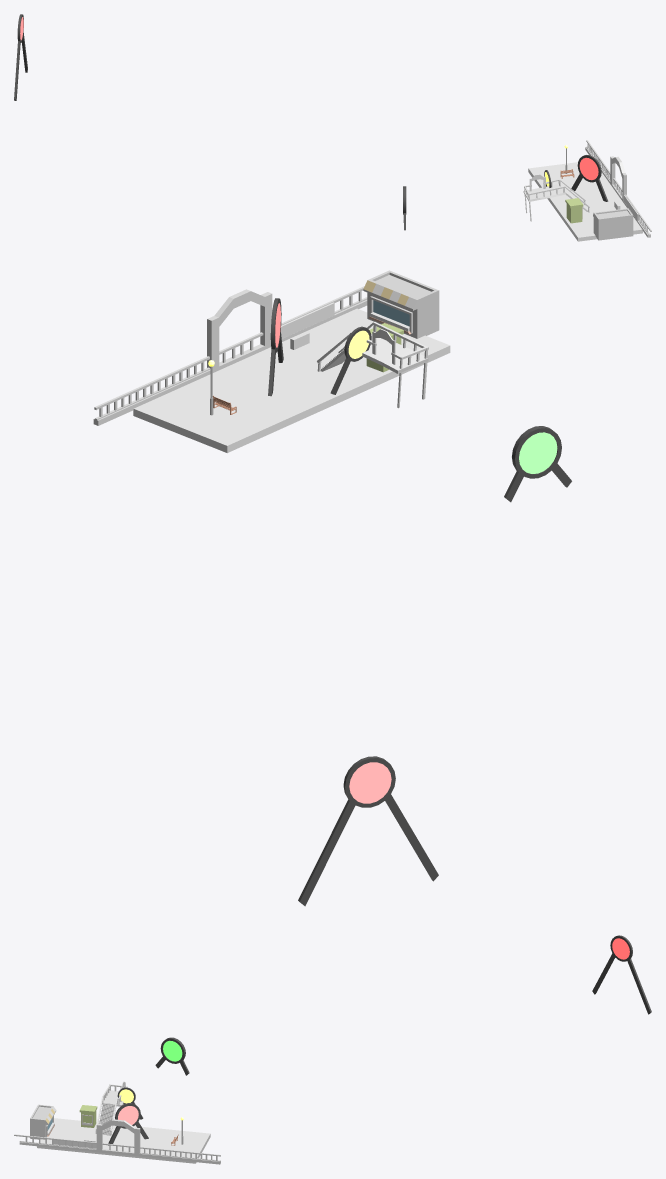
The model's file is importantObjectsFx.fbx.
3 views of the same model, one above another, from view 1: azimuth 30°, elevation 25°; view 2: azimuth 150°, elevation 25°; view 3: azimuth 270°, elevation 25° (orthographic). The views are drawn at different scales.
Parts seen in each view (by area): view 1: ground1, Объект_Куб_003, Объект_Куб_012, boostFx_1, boostFx, ground2, Объект_Куб_005__1_; view 2: ground1, Объект_Куб_012, boostFx, Объект_Куб_003, brakesFx, ground2, stopperFx; view 3: ground1, Объект_Куб_012, boostFx, Объект_Куб_003, brakesFx, boostFx_1, Объект_Куб_005__1_.
Part boxes in pixels (<box>): ground1: <box>528,162,642,241</box>; Объект_Куб_003: <box>593,208,633,240</box>; Объект_Куб_012: <box>585,140,651,237</box>; boostFx_1: <box>571,155,608,201</box>; boostFx: <box>14,14,27,100</box>; ground2: <box>523,184,565,201</box>; Объект_Куб_005__1_: <box>565,198,583,223</box>; ground1: <box>133,308,450,452</box>; Объект_Куб_012: <box>93,286,367,425</box>; boostFx: <box>298,756,438,906</box>; Объект_Куб_003: <box>363,270,439,338</box>; brakesFx: <box>504,426,571,502</box>; ground2: <box>344,334,428,373</box>; stopperFx: <box>330,326,371,394</box>; ground1: <box>37,1118,210,1163</box>; Объект_Куб_012: <box>14,1119,220,1164</box>; boostFx: <box>592,935,651,1014</box>; Объект_Куб_003: <box>30,1104,56,1139</box>; brakesFx: <box>155,1037,189,1075</box>; boostFx_1: <box>108,1103,148,1145</box>; Объект_Куб_005__1_: <box>79,1105,97,1127</box>.
Size of what is drawn, in the model's own units: 10328 by 1891 by 15880.
